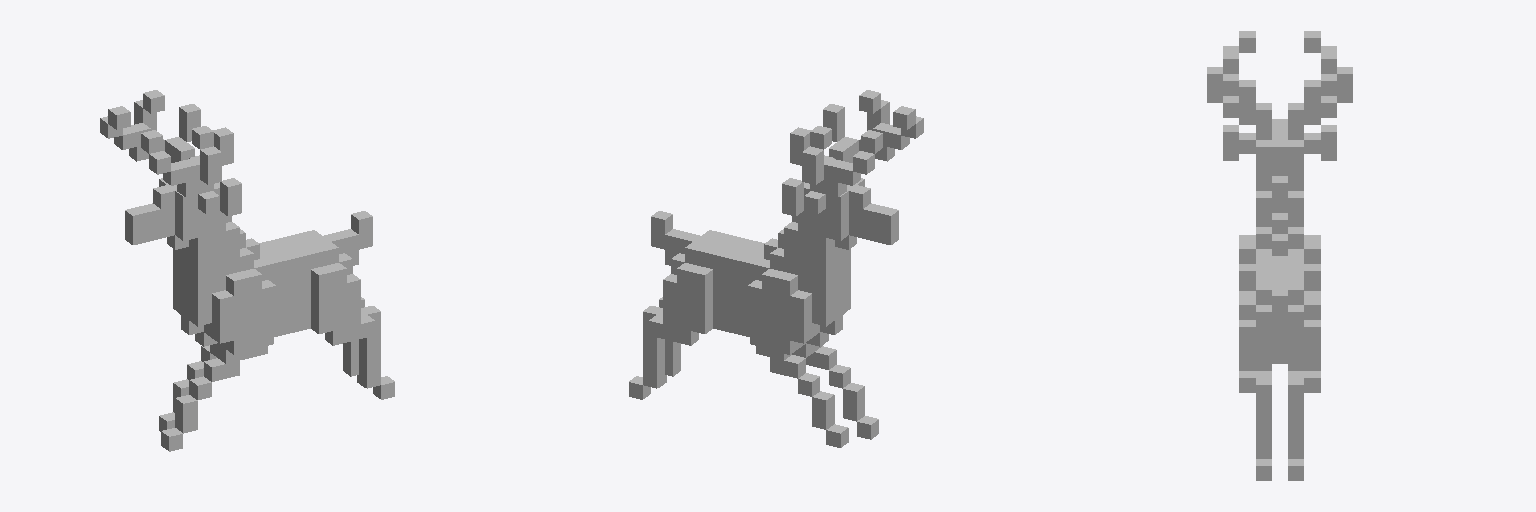
The model's file is deer3.obj.
3 renders of one model, left to right at view 1: azimuth 30°, elevation 25°; view 2: azimuth 150°, elevation 25°; view 3: azimuth 270°, elevation 25°, orthographic.
Visible parts, largest first — view 1: object 1; view 2: object 1; view 3: object 1.
Part boxes in pixels (x1,y1,x2,y2): object 1: (100,90,394,451); object 1: (629,90,923,447); object 1: (1207,31,1352,480).
Bounding box in the file's own units: 1.8 × 2.2 × 0.9.